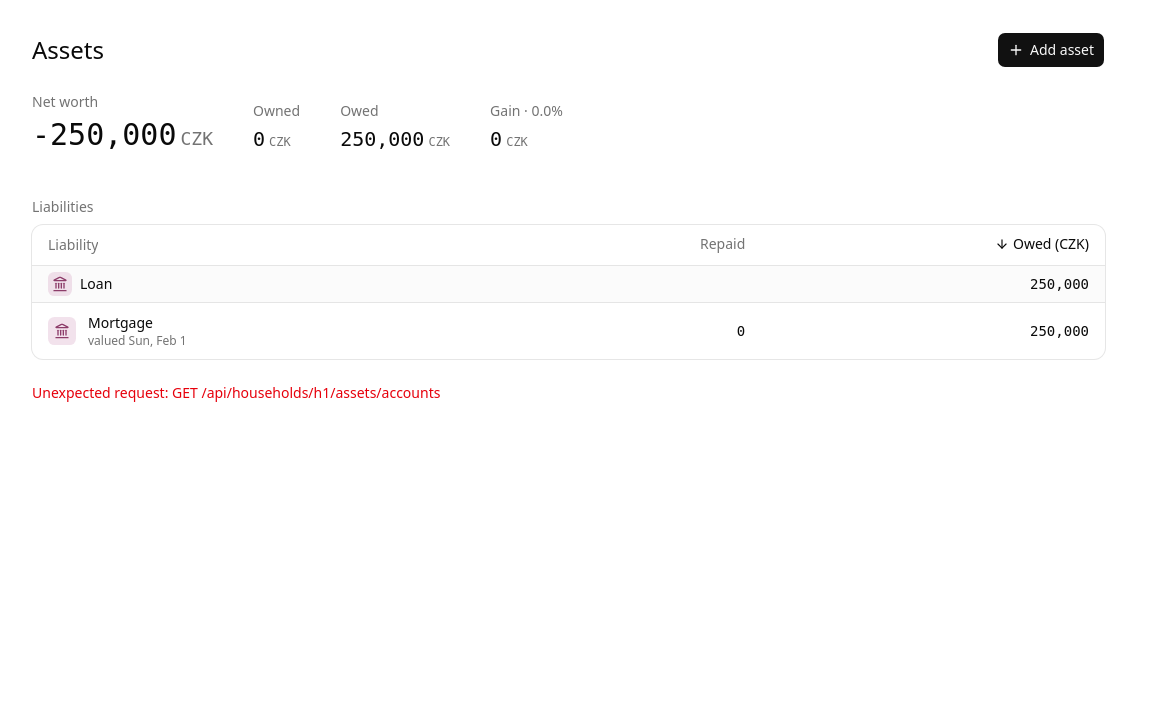
Test case: uses liability wording in the asset sheet button and history rows
Click the button "Mortgage" at (120, 322), box [88, 312, 153, 332]
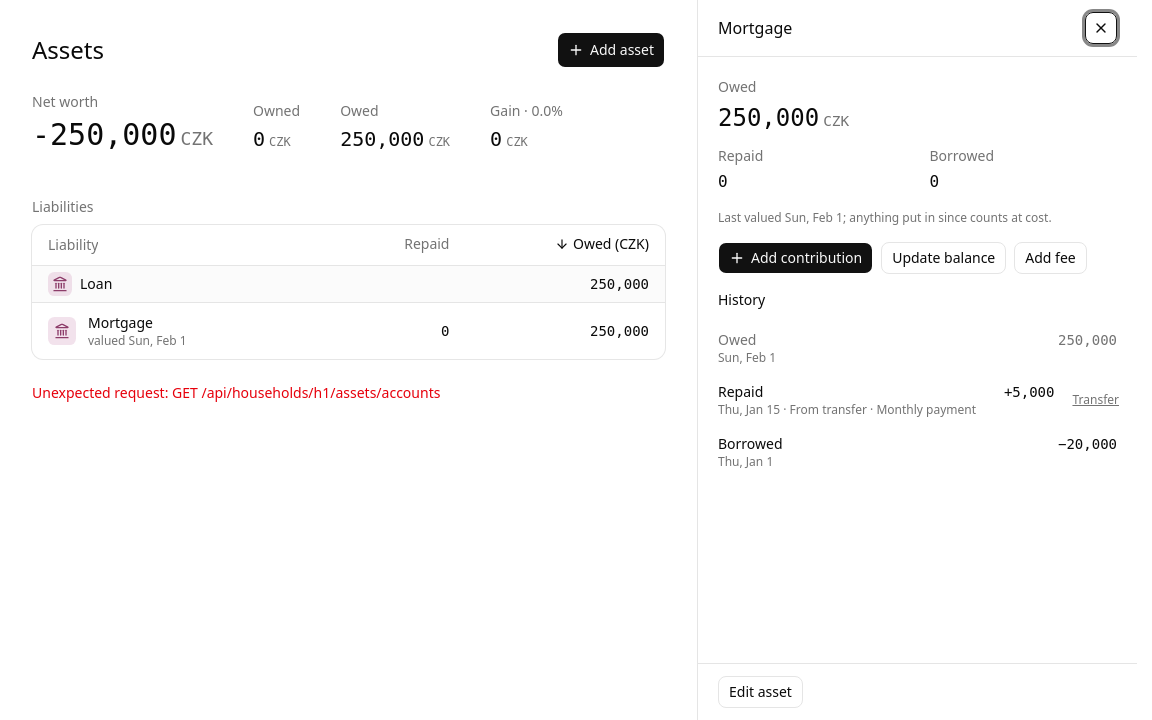
Expected: the button "Update balance" is shown, [881, 242, 1006, 274]
Expected: the text "Thu, Jan 15 · From transfer · Monthly payment" is shown
Expected: the 1st text "Borrowed" is shown, [930, 146, 994, 165]
Opening a transfer-backed contribution shows it read-only with no Save or Delete button.
Click the text "Thu, Jan 15 · From transfer · Monthly payment" at (847, 410), box [718, 402, 976, 418]
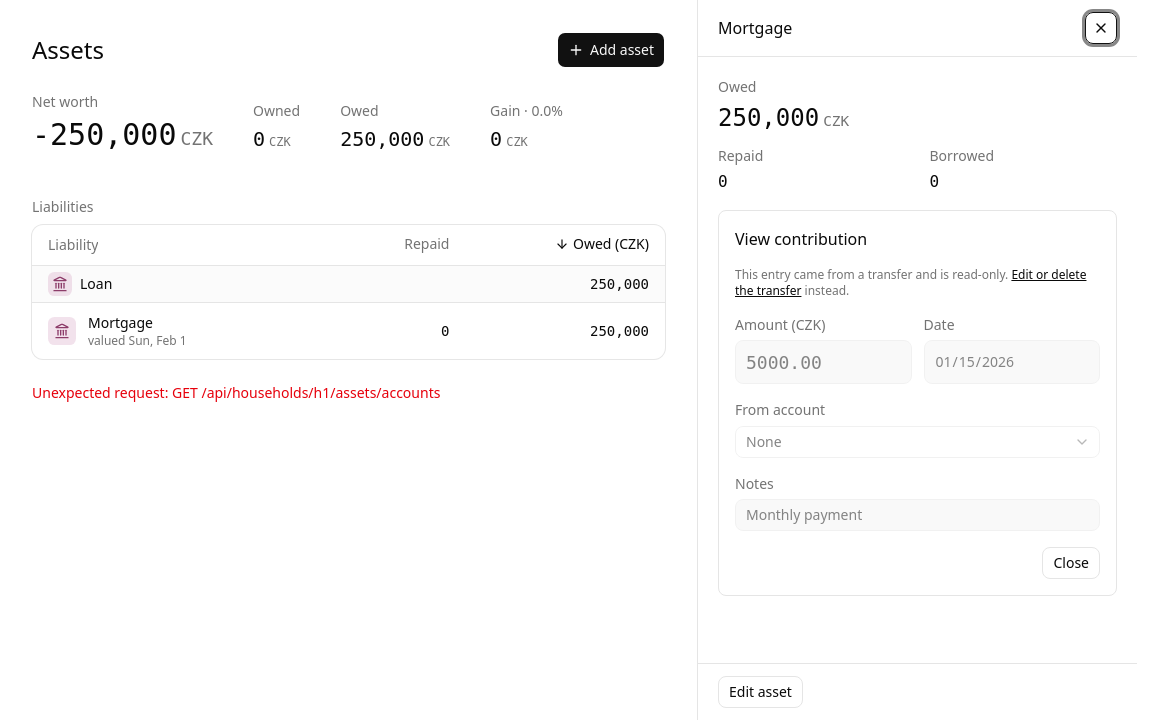
Expected: the form "View contribution" is shown, [718, 210, 1117, 596]
Expected: the field labelled "Amount (CZK)" is disabled, [735, 340, 912, 384]
Expected: the date field labelled "Date" is disabled, [924, 340, 1100, 384]
